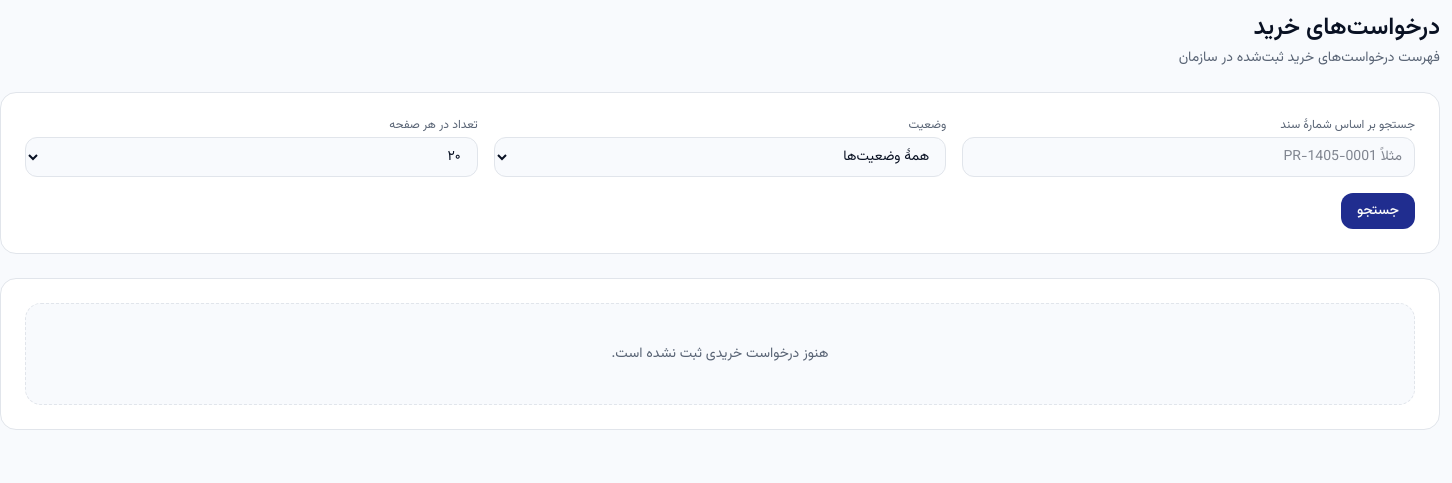
Test: CommercePurchaseListView › states WHICH emptiness the register is in — untouched vs filtered
Check: the text "هنوز درخواست خریدی ثبت نشده است." is shown, box [25, 303, 1415, 405]
Select "تأییدشده" in the dropdown labelled "وضعیت" at (720, 157), box [494, 137, 946, 177]
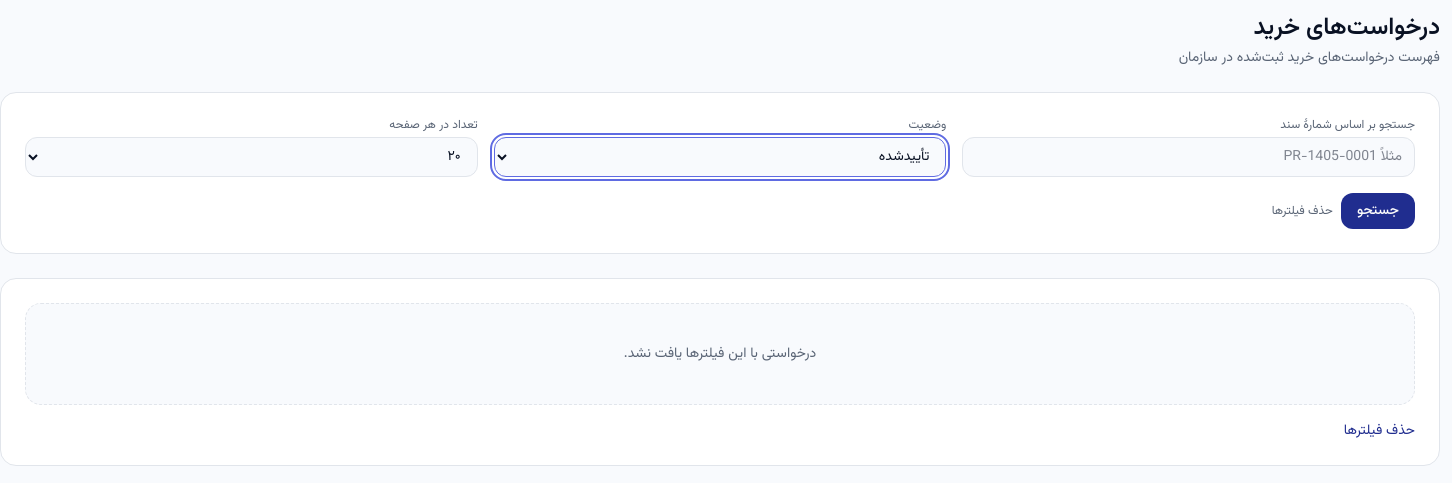
Check: the text "درخواستی با این فیلترها یافت نشد." is shown, box [25, 303, 1415, 405]
